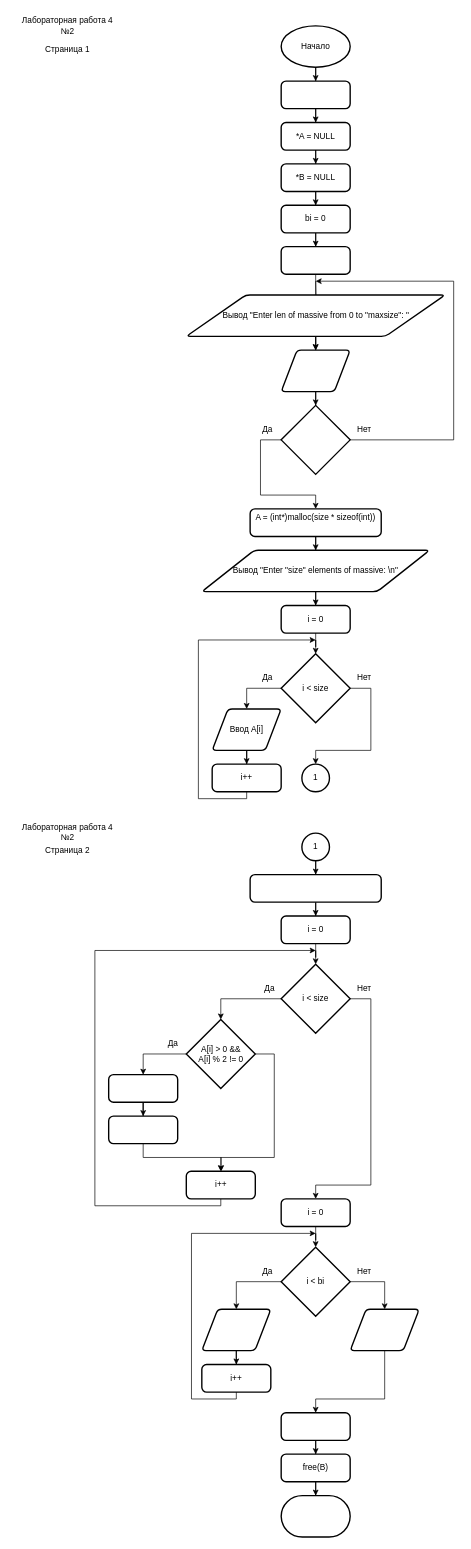
Some shapes in this 471 by 1549 pixel diagram are drawn without their labels. Here are the shapes that lost their labels. From the top down, the box of each, then its label:
(280, 80, 351, 109): maxsize = 100
(280, 246, 351, 275): srand(time(NULL)
(280, 349, 351, 392): Ввод size
(280, 404, 351, 475): size < maxsize
(249, 874, 382, 903): B = (int*)malloc(size * sizeof(int))
(108, 1074, 178, 1103): B[bi] = A[i]
(108, 1115, 178, 1144): bi++
(201, 1308, 271, 1351): Вывод B[i]
(349, 1308, 420, 1351): Вывод "\n"
(280, 1412, 351, 1441): free(A)
(280, 1495, 351, 1537): Конец
